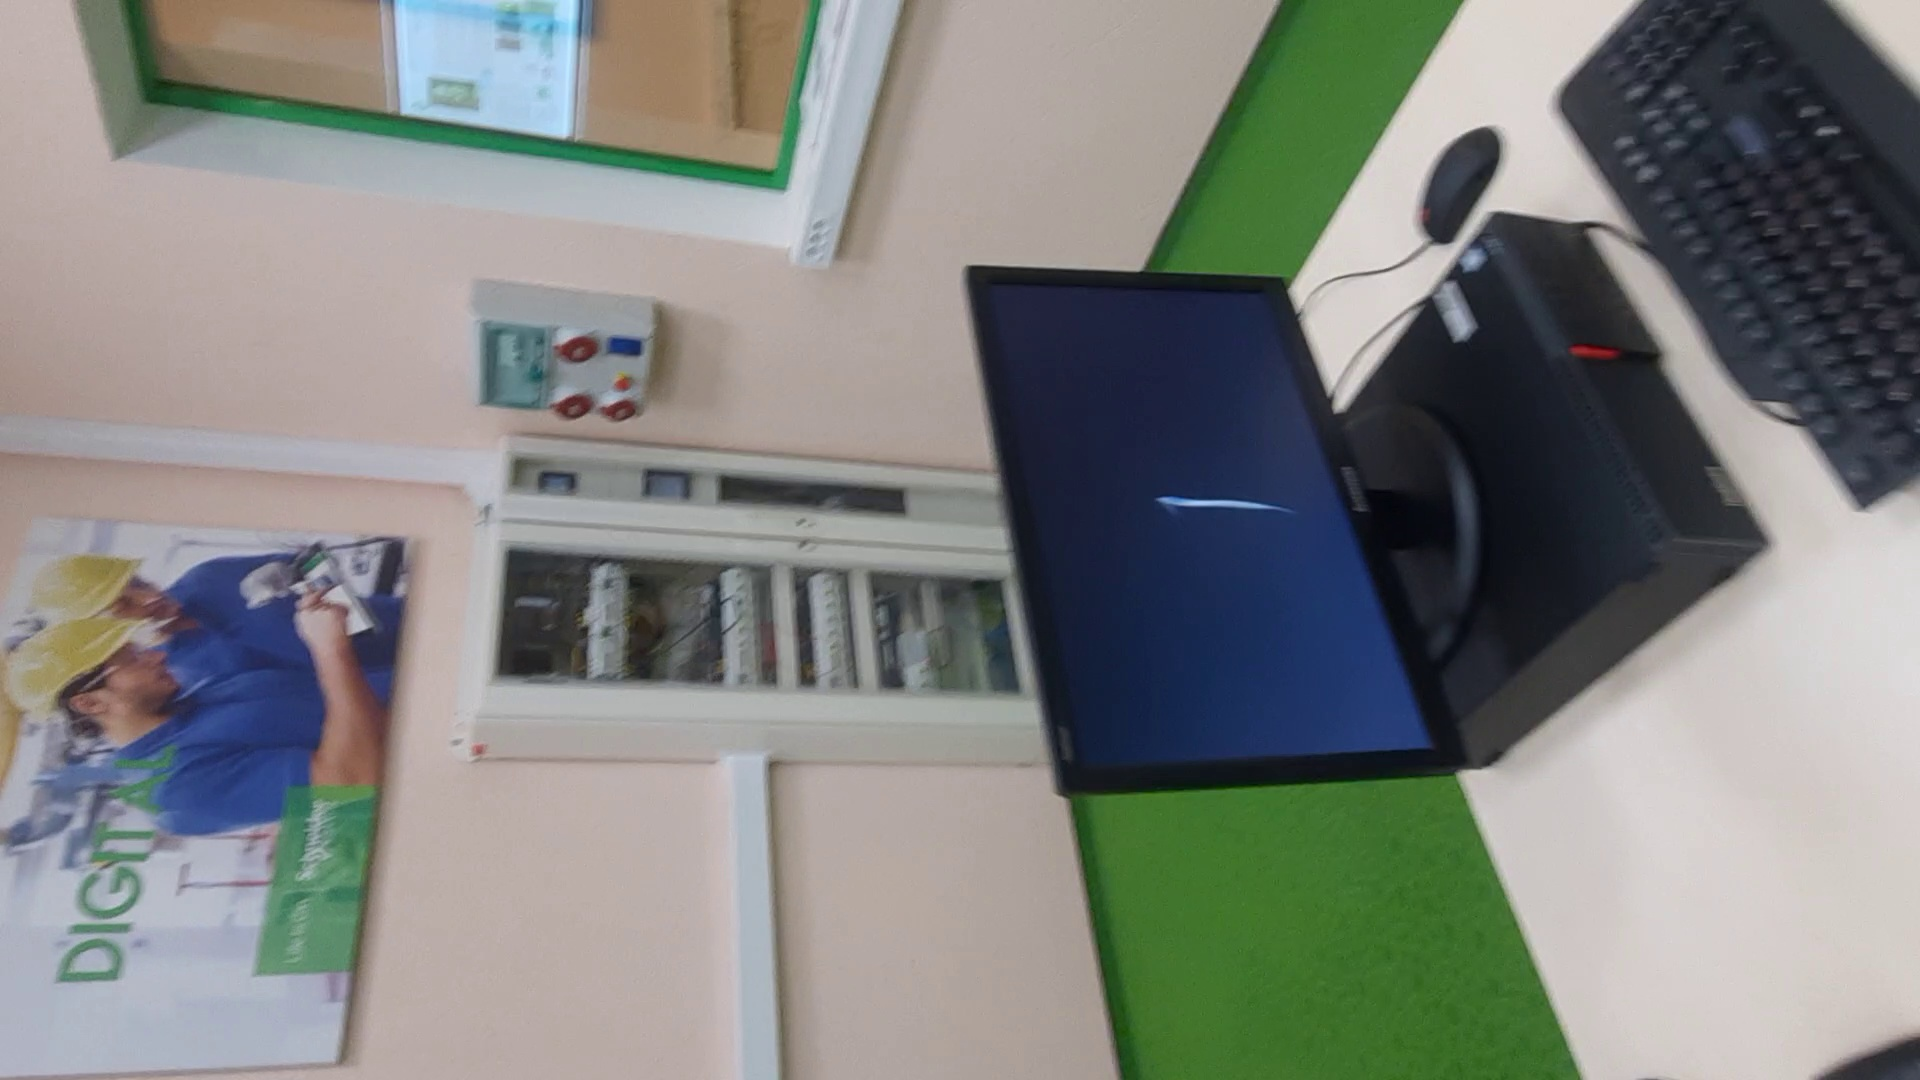stand1: (469, 419, 988, 756)
